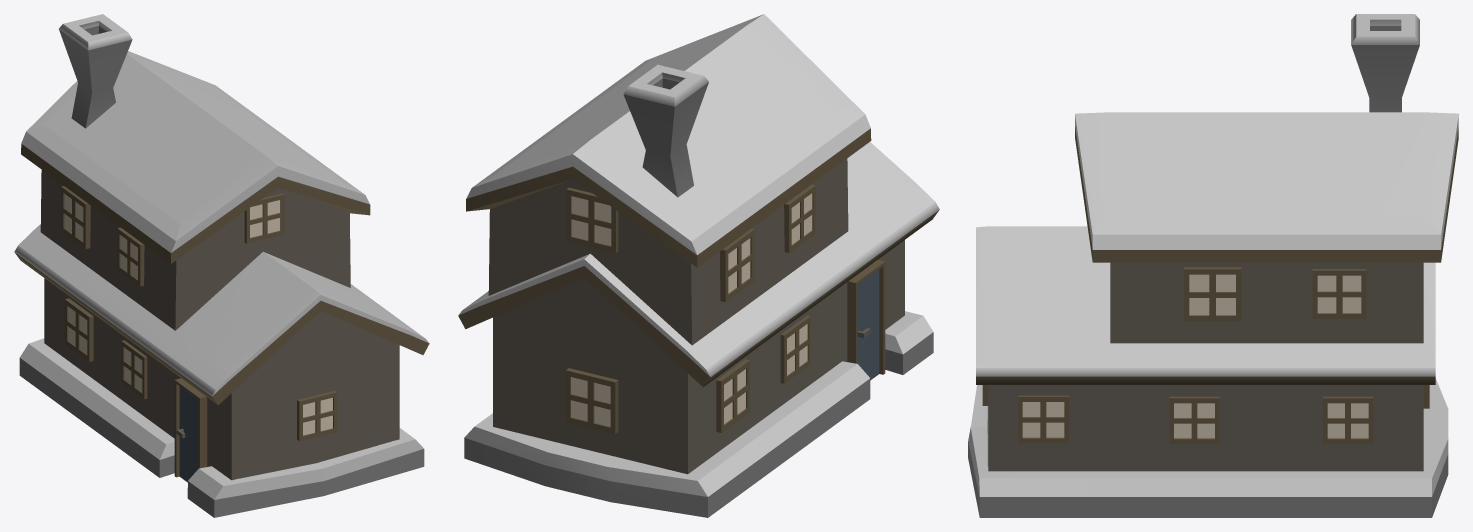
File: FMP_House_New_2.fbx
3 renders of one model, left to right at view 1: azimuth 30°, elevation 25°; view 2: azimuth 150°, elevation 25°; view 3: azimuth 270°, elevation 25°, orthographic. The views are drawn at different scales.
Parts seen in each view (by area): view 1: polySurface30, polySurface38, polySurface33, polySurface39, polySurface44, polySurface34, polySurface42, polySurface31; view 2: polySurface30, polySurface38, polySurface39, polySurface33, polySurface32, polySurface43, polySurface34, polySurface31; view 3: polySurface30, polySurface40, polySurface38, polySurface29, polySurface41, polySurface35.
Part boxes in pixels (bbox=[...]): polySurface30: bbox=[14, 51, 429, 517]; polySurface38: bbox=[59, 14, 132, 128]; polySurface33: bbox=[64, 298, 147, 399]; polySurface39: bbox=[61, 186, 144, 286]; polySurface44: bbox=[297, 390, 337, 441]; polySurface34: bbox=[179, 386, 198, 482]; polySurface42: bbox=[244, 193, 284, 243]; polySurface31: bbox=[174, 378, 207, 477]; polySurface30: bbox=[458, 14, 939, 517]; polySurface38: bbox=[623, 64, 708, 197]; polySurface39: bbox=[719, 184, 815, 302]; polySurface33: bbox=[716, 315, 810, 432]; polySurface32: bbox=[565, 368, 618, 433]; polySurface43: bbox=[566, 187, 618, 253]; polySurface34: bbox=[857, 269, 879, 380]; polySurface31: bbox=[847, 260, 885, 374]; polySurface30: bbox=[968, 112, 1458, 517]; polySurface40: bbox=[1184, 267, 1366, 321]; polySurface38: bbox=[1351, 14, 1419, 112]; polySurface29: bbox=[1018, 395, 1068, 443]; polySurface41: bbox=[1169, 396, 1219, 443]; polySurface35: bbox=[1323, 396, 1373, 443].
Bounding box in the file's own units: 473 × 724 × 793.
